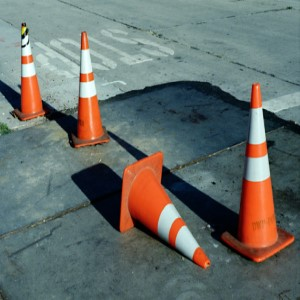traffic cone: (221, 83, 295, 262), (118, 151, 211, 268), (69, 31, 111, 149), (12, 22, 48, 121)
